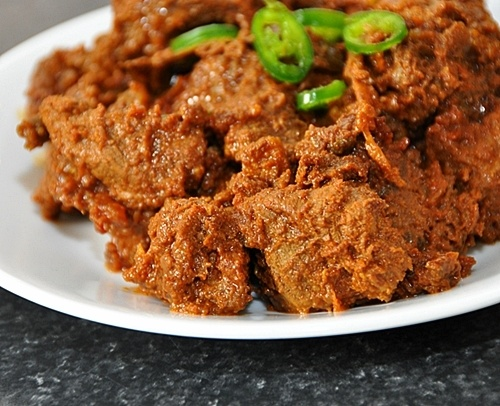rendang: (31, 22, 498, 326)
